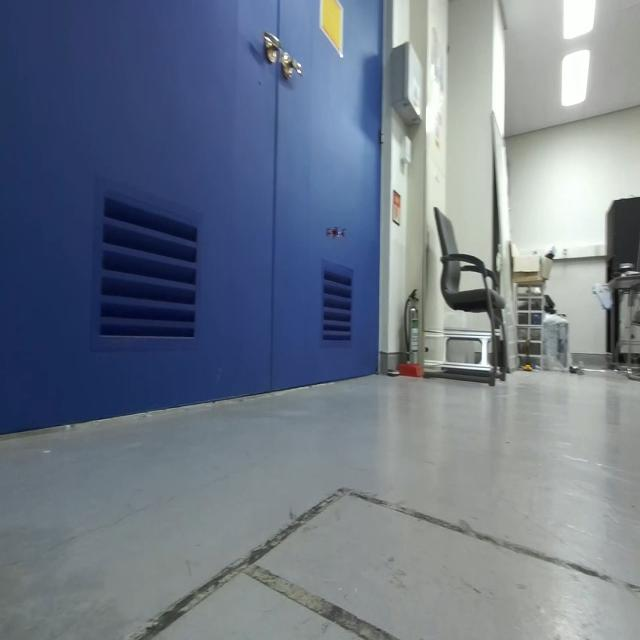crazyflie: (322, 220, 350, 247)
